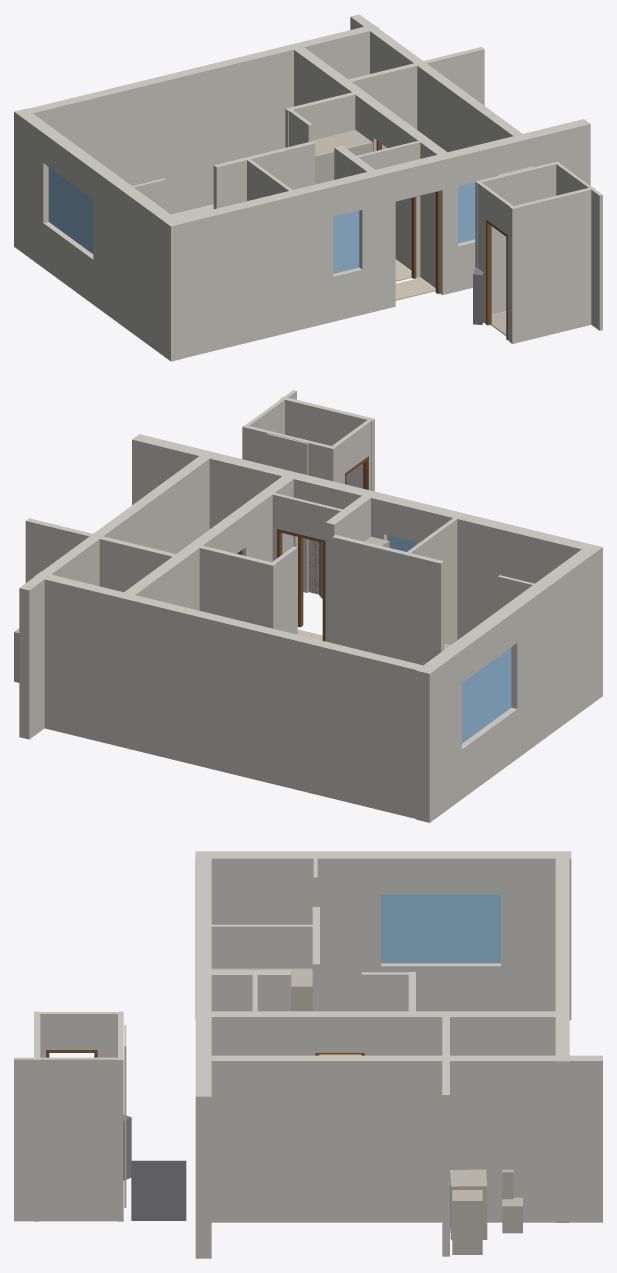
3 renders of one model, top to bottom at view 1: azimuth 30°, elevation 25°; view 2: azimuth 150°, elevation 25°; view 3: azimuth 270°, elevation 25°, orthographic. The views are drawn at different scales.
Parts seen in each view (by area): view 1: walls, window_0, furniture_0_closet, window_2, window_6, door_7, door_1, railings, floor_7_Entry, door_3; view 2: walls, window_0, door_3, railings; view 3: walls, window_0, railings, furniture_4_appliance, furniture_3_appliance, furniture_1_closet, furniture_10_toilet.
Boxes of the visible parts, bbox=[...] form: walls: bbox=[14, 14, 602, 361]; window_0: bbox=[48, 167, 93, 253]; furniture_0_closet: bbox=[312, 130, 372, 184]; window_2: bbox=[333, 210, 359, 273]; window_6: bbox=[458, 182, 475, 243]; door_7: bbox=[486, 219, 507, 340]; door_1: bbox=[396, 191, 440, 293]; railings: bbox=[473, 267, 483, 324]; floor_7_Entry: bbox=[395, 278, 435, 300]; door_3: bbox=[411, 197, 416, 278]; walls: bbox=[19, 390, 602, 822]; window_0: bbox=[462, 647, 511, 743]; door_3: bbox=[277, 529, 325, 641]; railings: bbox=[309, 540, 322, 598]; walls: bbox=[14, 851, 602, 1258]; window_0: bbox=[381, 894, 500, 963]; railings: bbox=[123, 1114, 186, 1220]; furniture_4_appliance: bbox=[452, 1190, 482, 1254]; furniture_3_appliance: bbox=[450, 1169, 487, 1240]; furniture_1_closet: bbox=[211, 968, 312, 1011]; furniture_10_toilet: bbox=[502, 1197, 522, 1233].
Size of the model in its own units: 8.78 by 2.72 by 8.91.
